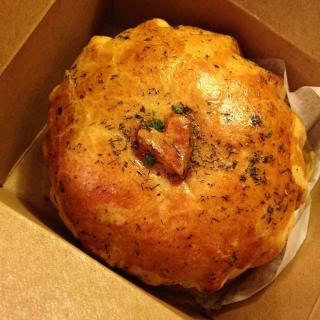Bread: (41, 19, 305, 292)
